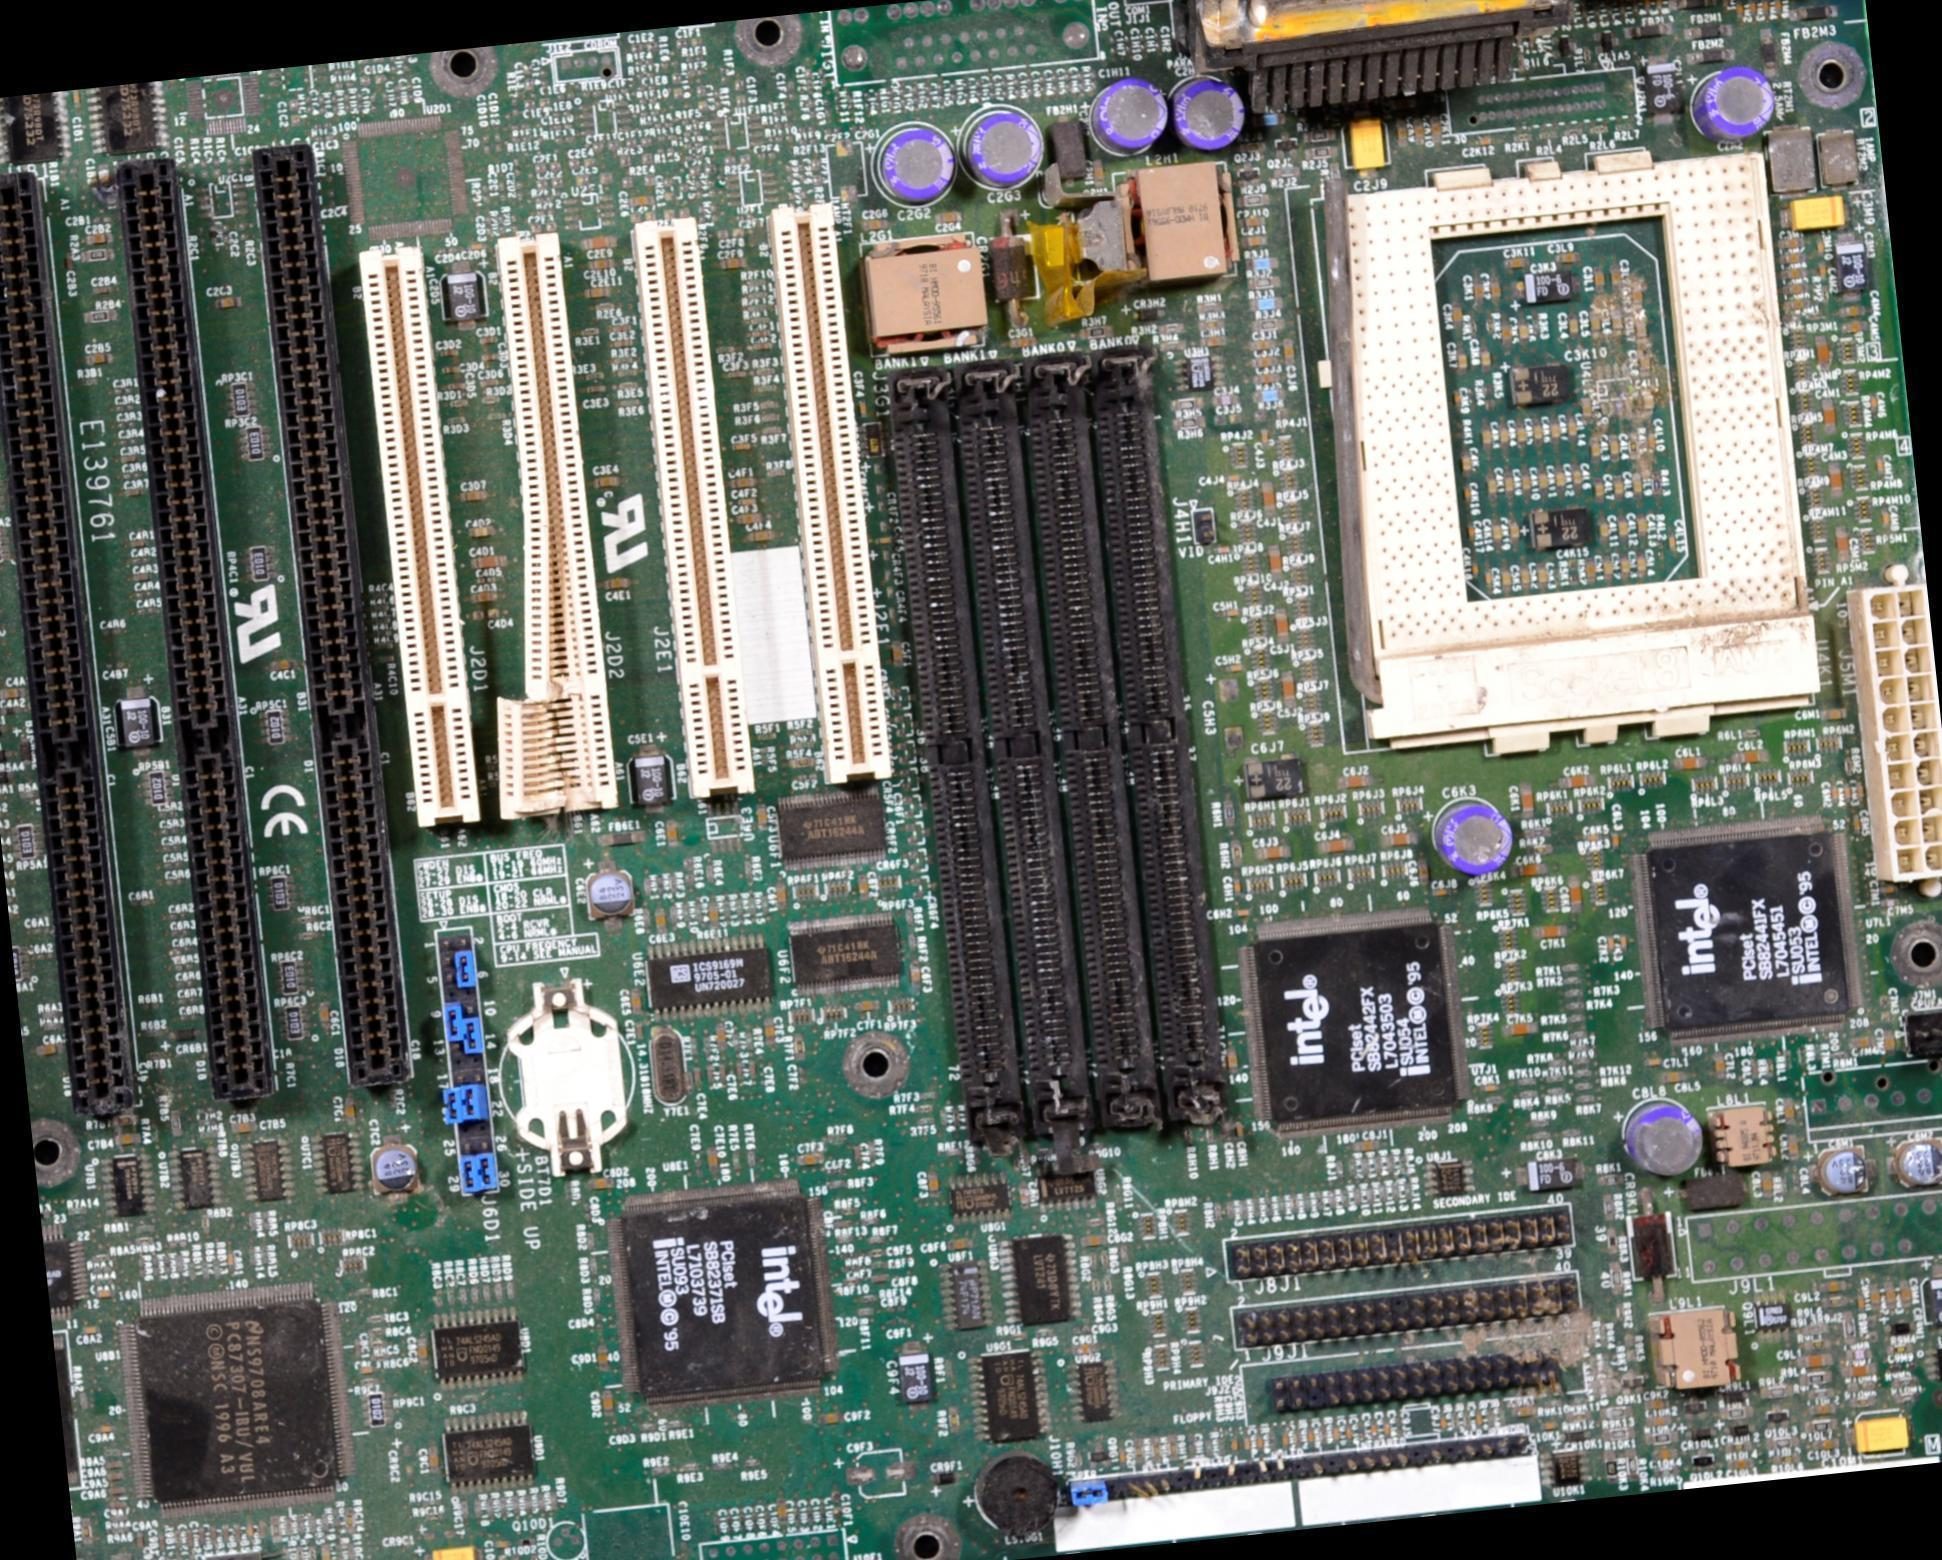Capacitor: (1336, 773, 1378, 791), (1316, 837, 1359, 855), (1254, 844, 1293, 862), (1821, 397, 1838, 437), (1827, 462, 1846, 498), (579, 235, 620, 253), (1834, 526, 1851, 563), (1281, 671, 1299, 709), (1567, 874, 1583, 914), (1078, 1229, 1108, 1249), (1813, 334, 1831, 369), (469, 554, 508, 570), (1261, 480, 1277, 519), (1533, 924, 1567, 940), (1734, 749, 1770, 765), (1557, 774, 1597, 788), (1503, 1022, 1537, 1038), (1519, 782, 1535, 815), (1381, 832, 1415, 848), (457, 489, 490, 504), (591, 475, 624, 491), (1816, 1279, 1847, 1296), (1513, 864, 1549, 879), (603, 575, 635, 591), (945, 1236, 974, 1253), (467, 592, 502, 606), (1673, 757, 1706, 772), (1883, 1279, 1897, 1311), (797, 1153, 826, 1168), (1800, 1354, 1832, 1369), (719, 256, 748, 272), (1840, 317, 1869, 333), (746, 528, 775, 544), (928, 1166, 941, 1200), (1275, 607, 1288, 642), (665, 818, 680, 848), (774, 881, 788, 910), (1460, 448, 1474, 477), (653, 908, 669, 934), (115, 1132, 142, 1148), (588, 1177, 615, 1192), (817, 1410, 843, 1426), (1269, 543, 1282, 577), (1820, 707, 1848, 721), (707, 900, 721, 928), (909, 962, 923, 990), (231, 1121, 259, 1135), (597, 1344, 611, 1372), (935, 210, 963, 224), (730, 475, 760, 489), (468, 525, 496, 540), (318, 1003, 331, 1034), (1414, 120, 1426, 152), (1284, 336, 1297, 367), (1835, 304, 1867, 317), (1786, 1133, 1800, 1160), (84, 233, 112, 246), (629, 193, 656, 207), (1395, 121, 1409, 148), (215, 296, 242, 310), (1899, 1278, 1912, 1308), (1645, 1413, 1674, 1426), (1429, 116, 1442, 147), (1507, 519, 1520, 549), (856, 998, 881, 1014), (584, 259, 617, 271), (755, 803, 768, 831), (35, 1042, 64, 1056), (344, 1096, 357, 1126), (706, 1146, 719, 1174), (1712, 1052, 1726, 1081), (1660, 1071, 1689, 1084), (1352, 1140, 1380, 1152), (1761, 1172, 1774, 1201), (1869, 1283, 1882, 1311), (862, 218, 888, 232), (1244, 234, 1271, 248), (0, 686, 25, 701), (1726, 1458, 1757, 1469), (1848, 1035, 1875, 1048), (1783, 1098, 1795, 1126), (602, 1389, 615, 1417), (1642, 1397, 1670, 1411), (1810, 1402, 1837, 1415), (1651, 1447, 1678, 1460), (1092, 158, 1105, 185), (583, 286, 610, 299), (1776, 237, 1803, 250), (735, 512, 763, 525), (269, 659, 296, 672), (1520, 564, 1533, 591), (1603, 556, 1615, 582), (892, 642, 904, 668), (1548, 417, 1561, 441), (83, 353, 113, 365), (427, 1447, 440, 1473), (1511, 1406, 1536, 1419), (1248, 337, 1274, 350), (1252, 355, 1278, 367), (1514, 420, 1526, 445), (1632, 472, 1644, 499), (1584, 559, 1597, 584), (1500, 568, 1512, 594), (857, 875, 871, 897), (764, 1017, 775, 1046), (1508, 256, 1529, 270), (417, 1338, 429, 1363), (1073, 1341, 1097, 1353), (1539, 1416, 1559, 1433), (1556, 251, 1580, 265), (1473, 280, 1485, 304), (630, 989, 641, 1015), (93, 1423, 120, 1435), (1844, 1364, 1871, 1375), (1500, 319, 1511, 345), (1614, 475, 1625, 501), (1593, 478, 1605, 504), (1430, 887, 1451, 899), (1883, 1030, 1896, 1053), (1243, 1430, 1254, 1455), (1816, 1440, 1841, 1451), (1240, 216, 1265, 228), (1778, 253, 1804, 264), (1782, 268, 1806, 279), (1569, 311, 1580, 336), (1457, 351, 1469, 373), (1498, 424, 1510, 445), (1618, 517, 1630, 540), (716, 1023, 726, 1052), (93, 1289, 116, 1300), (1490, 278, 1501, 302), (1010, 337, 1034, 348), (1518, 319, 1529, 343), (1254, 372, 1278, 384), (1532, 419, 1543, 442), (1591, 437, 1602, 462), (1537, 468, 1549, 492), (1554, 466, 1564, 490), (1491, 521, 1503, 545), (1879, 508, 1890, 531), (1619, 555, 1630, 579), (1476, 133, 1497, 146), (440, 347, 460, 359), (441, 363, 462, 376), (1635, 515, 1648, 536), (1537, 563, 1548, 590), (479, 335, 501, 345), (444, 381, 466, 392), (1452, 308, 1463, 330), (1782, 282, 1804, 293), (730, 442, 753, 453), (1520, 471, 1532, 494), (1874, 457, 1885, 479), (1479, 350, 1492, 369), (1232, 877, 1243, 897), (1852, 813, 1862, 834), (1306, 1424, 1316, 1446), (89, 286, 113, 296), (1785, 299, 1809, 309), (736, 497, 760, 507), (1646, 432, 1655, 455), (1486, 473, 1496, 496), (1856, 781, 1865, 804), (635, 1021, 645, 1042), (80, 1326, 102, 1335), (479, 352, 499, 363), (119, 471, 142, 480), (128, 540, 146, 550), (1504, 471, 1514, 494), (1571, 466, 1583, 486), (71, 89, 83, 109), (1599, 520, 1610, 543), (1636, 554, 1646, 577), (1748, 0, 1758, 21), (479, 377, 500, 387), (1817, 238, 1826, 259), (1819, 261, 1829, 282), (118, 453, 138, 464), (858, 400, 867, 420), (131, 573, 151, 582), (1609, 437, 1619, 459), (873, 536, 893, 546), (1468, 522, 1477, 543), (1667, 534, 1676, 554), (1610, 832, 1620, 850), (1760, 0, 1771, 18), (122, 487, 140, 498), (1234, 909, 1253, 919), (1480, 1083, 1500, 1092), (356, 1365, 376, 1376), (1857, 1292, 1867, 1312), (1735, 0, 1744, 19), (320, 1544, 332, 1559), (493, 1539, 512, 1549), (117, 436, 137, 445), (1259, 428, 1271, 444), (1880, 885, 1897, 895), (1620, 934, 1630, 952), (1605, 936, 1614, 953), (1344, 1425, 1353, 1443), (1226, 663, 1243, 672), (1439, 1412, 1447, 1433), (1844, 782, 1851, 801), (1831, 785, 1838, 804), (1644, 1057, 1661, 1066), (1370, 1422, 1379, 1440), (467, 242, 486, 250), (1227, 473, 1243, 482), (226, 1252, 234, 1271), (1773, 0, 1782, 18), (1475, 1408, 1483, 1427), (1332, 1425, 1341, 1442), (1471, 562, 1479, 580), (1256, 1435, 1264, 1450), (1214, 546, 1231, 554), (1585, 833, 1599, 841), (1118, 1450, 1126, 1464), (1282, 1434, 1289, 1449), (1224, 609, 1239, 618), (1383, 1422, 1390, 1437), (1870, 395, 1877, 411)
IC: (1237, 924, 1479, 1129), (123, 1296, 354, 1506), (1644, 836, 1861, 1030), (647, 933, 776, 1017), (781, 786, 893, 871), (969, 1341, 1051, 1446), (787, 920, 904, 993), (1000, 1229, 1086, 1329), (430, 1307, 530, 1386), (441, 1413, 541, 1491), (941, 1164, 1011, 1227), (1069, 1353, 1129, 1424), (241, 1137, 299, 1206), (103, 1153, 156, 1219), (173, 1143, 220, 1213), (313, 1131, 360, 1196)
Resistor: (1624, 1449, 1641, 1480), (1840, 1312, 1856, 1344), (1600, 1404, 1632, 1420), (1601, 1428, 1635, 1443), (1803, 1371, 1832, 1386), (1761, 1386, 1793, 1401), (1612, 1263, 1625, 1298), (1602, 1450, 1616, 1480), (1231, 841, 1244, 867), (1602, 1193, 1615, 1220), (1887, 1344, 1913, 1356), (81, 1517, 93, 1547), (1223, 800, 1234, 827), (1606, 1231, 1617, 1258), (948, 1406, 960, 1432), (344, 1505, 355, 1531)
